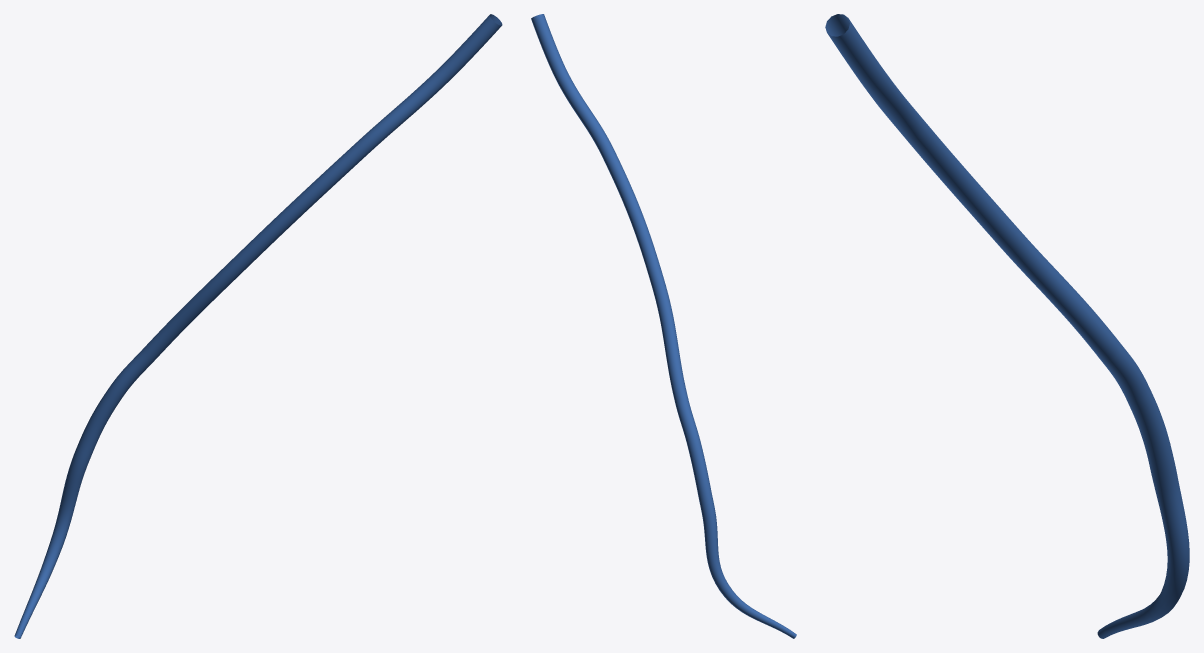
3 views of the same model, side by side, from view 1: azimuth 30°, elevation 25°; view 2: azimuth 150°, elevation 25°; view 3: azimuth 270°, elevation 25° (orthographic). The views are drawn at different scales.
Parts seen in each view (by area): view 1: 左侧颏下静脉; view 2: 左侧颏下静脉; view 3: 左侧颏下静脉.
Part boxes in pixels (left/top/right/bottom): 左侧颏下静脉: left=14, top=14, right=502, bottom=638; 左侧颏下静脉: left=531, top=14, right=796, bottom=638; 左侧颏下静脉: left=825, top=14, right=1189, bottom=638.
Size of the model in its own units: 0.0407 by 0.0572 by 0.0206.
